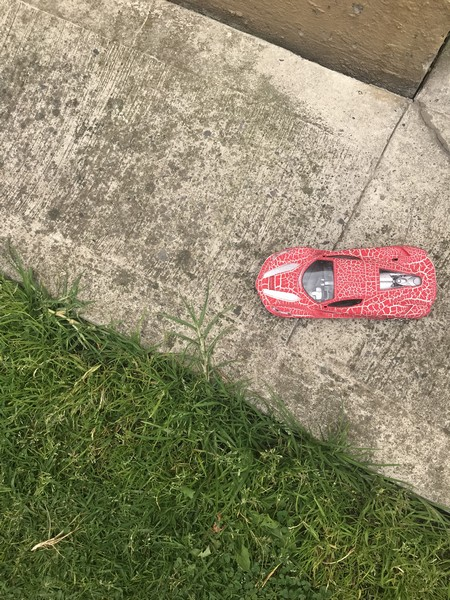RC: (254, 248, 440, 323)
